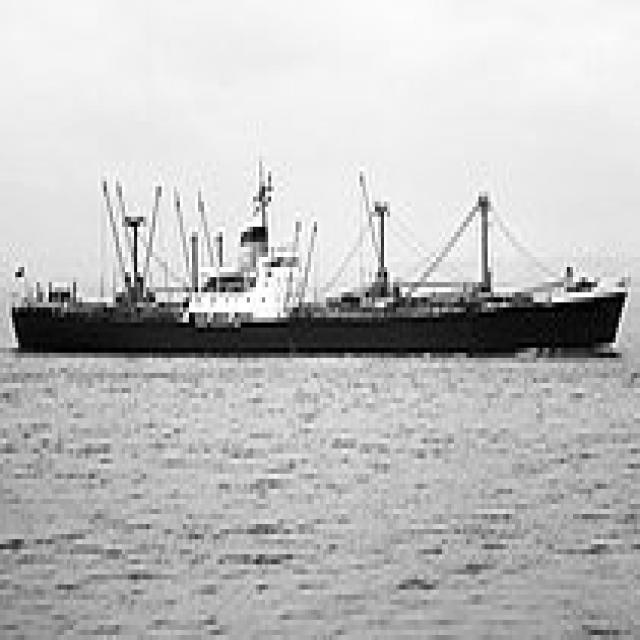Cargo: (6, 156, 628, 358)
